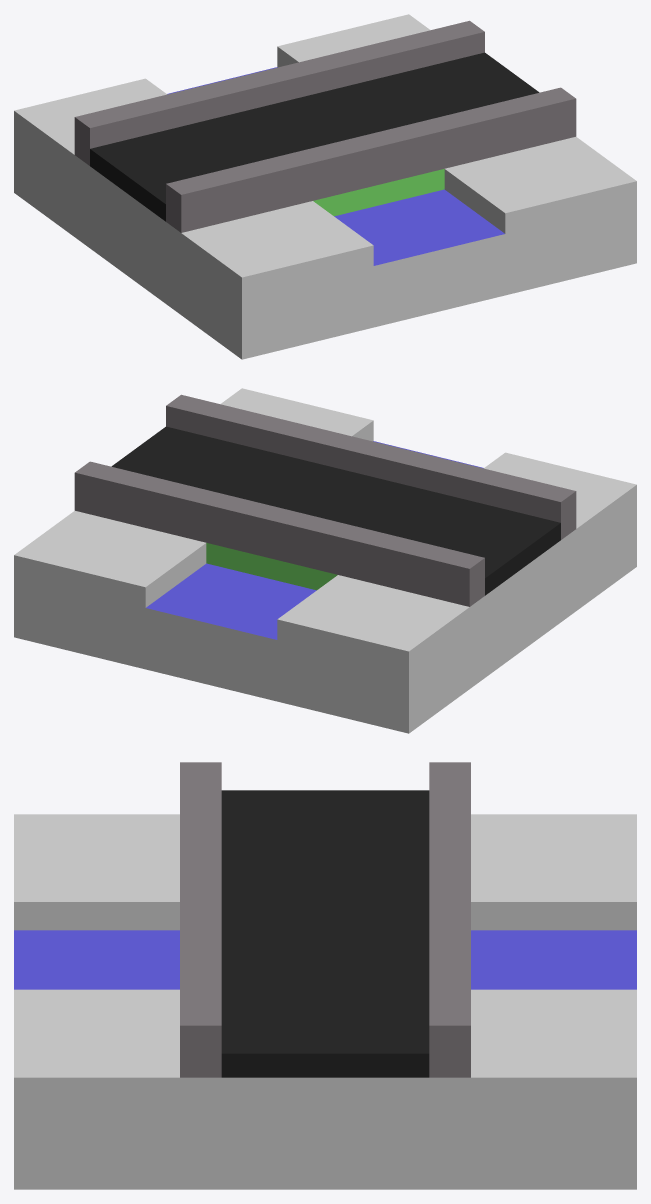
The model's file is RoadStreetBridgeRiver.fbx.
The picture shows the model from 3 angles, top to bottom: view 1: azimuth 30°, elevation 25°; view 2: azimuth 150°, elevation 25°; view 3: azimuth 270°, elevation 25°; orthographic projection. The views are drawn at different scales.
Parts seen in each view (by area): view 1: RoadStreetBridgeRiver; view 2: RoadStreetBridgeRiver; view 3: RoadStreetBridgeRiver.
Boxes of the visible parts, x1=… form: RoadStreetBridgeRiver: x1=14, y1=14, x2=636, y2=359; RoadStreetBridgeRiver: x1=14, y1=388, x2=636, y2=733; RoadStreetBridgeRiver: x1=14, y1=762, x2=636, y2=1189.
Size of the model in its own units: 200 by 200 by 58.18.
